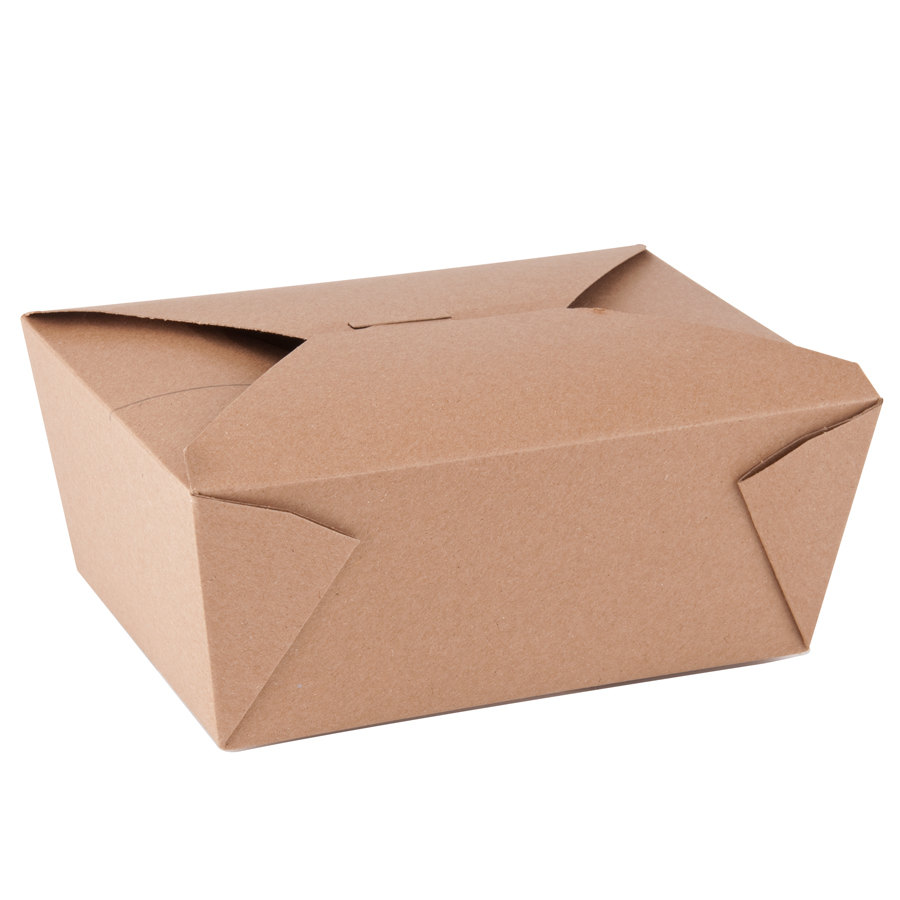Rec_Paper: (1, 236, 875, 743)
